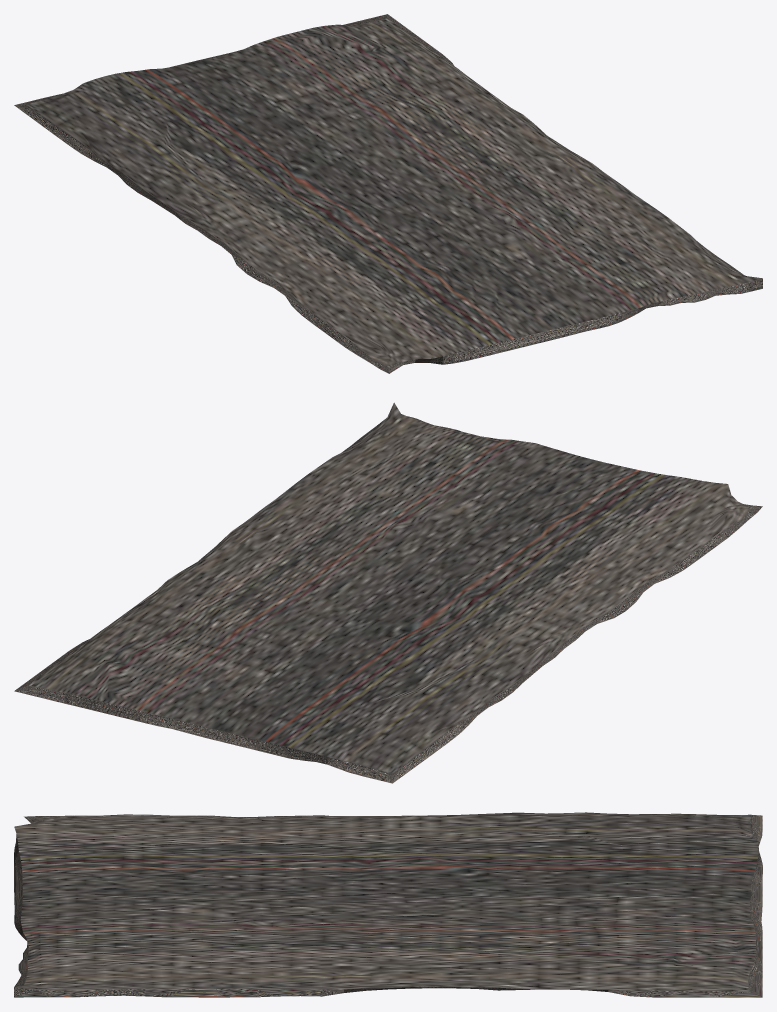
File: Rug.fbx
The picture shows the model from 3 angles, top to bottom: view 1: azimuth 30°, elevation 25°; view 2: azimuth 150°, elevation 25°; view 3: azimuth 270°, elevation 25°; orthographic projection.
Parts seen in each view (by area): view 1: Cube; view 2: Cube; view 3: Cube.
Part boxes in pixels (x1,y1,x2,y2): Cube: (14, 14, 762, 373); Cube: (14, 402, 762, 783); Cube: (14, 812, 762, 997).
Bounding box in the file's own units: 325 × 9.67 × 564.
1 material, 1 textured.
